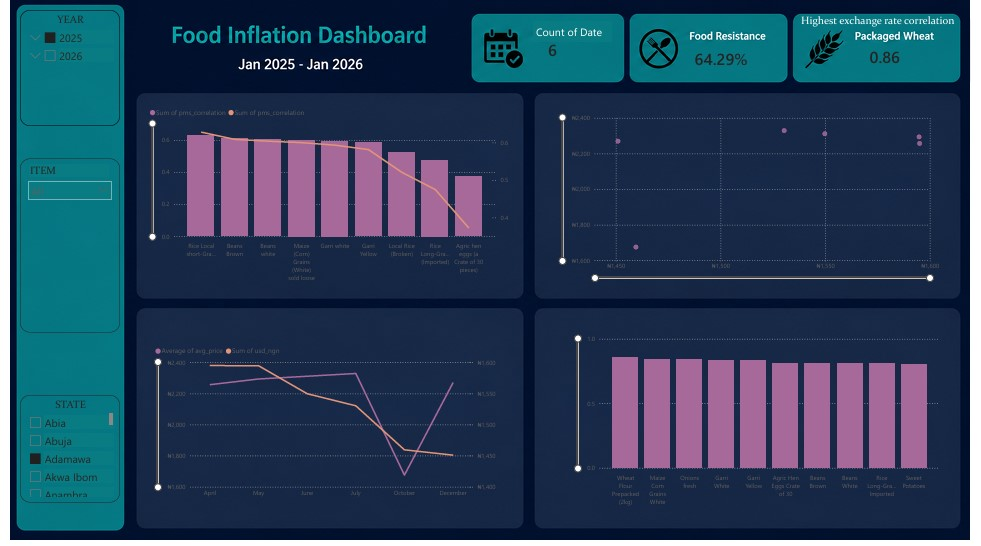

The dashboard page shown, as its layout file describes it:
{"tool":"powerbi","page":{"name":"Overview","canvas":[1920,1080],"ordinal":0},"visuals":[{"type":"lineChart","fields":{"Y":["Avg(AnalysisTable.avg_price)"],"Y2":["Sum(AnalysisTable.usd_ngn)"],"Category":["AnalysisTable.date.Variation.Date Hierarchy.Month"]},"box":[283.3,680,691.7,321.7],"z":0},{"type":"clusteredColumnChart","fields":{"Category":["fx_correlation.item"],"Y":["Sum(fx_correlation.fx_correlation)"]},"box":[1123.3,661.7,738.3,355],"z":1000},{"type":"lineClusteredColumnComboChart","fields":{"Category":["pms_correlation.item"],"Y":["Sum(pms_correlation.pms_correlation)"],"Y2":["Sum(pms_correlation.pms_correlation)"]},"box":[271.7,203.3,728.3,366.7],"z":2000},{"type":"scatterChart","fields":{"Y":["Avg(AnalysisTable.avg_price)"],"X":["Avg(AnalysisTable.usd_ngn)"],"Category":["AnalysisTable.date.Variation.Date Hierarchy.Month"]},"box":[1091.7,220,770,345],"z":3000},{"type":"cardVisual","fields":{"Data":["AnalysisTable.Foods Insulated from FX"]},"box":[1338.3,16.7,246.7,193.3],"z":4000},{"type":"cardVisual","title":"Months Analysed","fields":{"Data":["Count(AnalysisTable.date)"]},"box":[1045,33.3,156.7,126.7],"z":5000},{"type":"cardVisual","title":"Strongest FX Correlation","fields":{"Data":["Max(fx_correlation.fx_correlation)"]},"box":[1688.3,41.7,151.7,136.7],"z":6000},{"type":"slicer","title":"YEAR","fields":{"Values":["AnalysisTable.date.Variation.Date Hierarchy.Year","AnalysisTable.date.Variation.Date Hierarchy.Month"]},"box":[17.5,17.5,200,232.5],"z":7000},{"type":"slicer","fields":{"Values":["AnalysisTable.item"]},"box":[17.5,315,200,347.5],"z":8000},{"type":"slicer","title":"STATE","fields":{"Values":["AnalysisTable.Highest State"]},"box":[17.5,787.5,200,215],"z":9000},{"type":"textbox","box":[1570,21.7,326.7,38.3],"z":11000},{"type":"textbox","box":[1045,41.7,156.7,41.7],"z":13000}]}

Visuals, with their boxes in screenshot pixels (x1, y1, x2, y2), scaled from the page's 1920x1080 canvas onto the 981x546 screenshot:
lineChart - Avg(AnalysisTable.avg_price) x Sum(AnalysisTable.usd_ngn): box(145, 344, 498, 506)
clusteredColumnChart - fx_correlation.item x Sum(fx_correlation.fx_correlation): box(574, 335, 951, 514)
lineClusteredColumnComboChart - pms_correlation.item x Sum(pms_correlation.pms_correlation): box(139, 103, 511, 288)
scatterChart - Avg(AnalysisTable.avg_price) x Avg(AnalysisTable.usd_ngn): box(558, 111, 951, 286)
cardVisual - AnalysisTable.Foods Insulated from FX: box(684, 8, 810, 106)
"Months Analysed" cardVisual: box(534, 17, 614, 81)
"Strongest FX Correlation" cardVisual: box(863, 21, 940, 90)
"YEAR" slicer: box(9, 9, 111, 126)
slicer - AnalysisTable.item: box(9, 159, 111, 335)
"STATE" slicer: box(9, 398, 111, 507)
textbox: box(802, 11, 969, 30)
textbox: box(534, 21, 614, 42)
